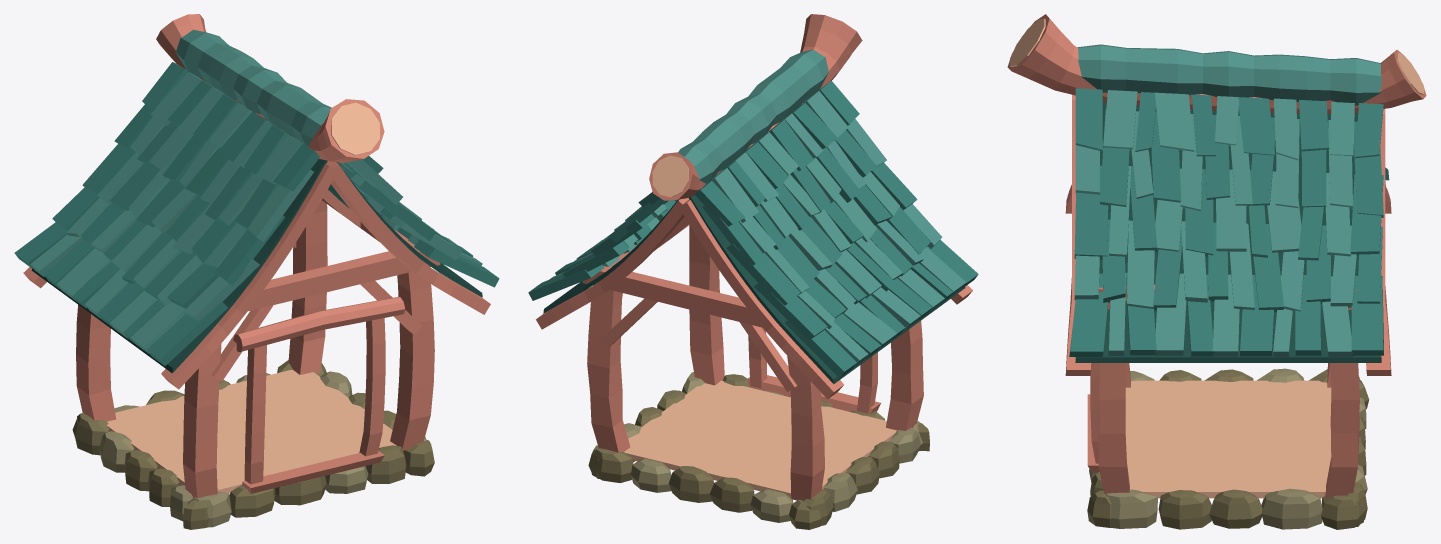
Rendered from feed-store-roof.glb.
3 renders of one model, left to right at view 1: azimuth 30°, elevation 25°; view 2: azimuth 150°, elevation 25°; view 3: azimuth 270°, elevation 25°, orthographic. The views are drawn at different scales.
Visible parts, largest first — view 1: frame, roof_left, roof_left_light, floor, footing, ridge_roll, footing_light, roof_edges, lintel, roof_right, ridge_log, roof_right_light (+1 smaller); view 2: frame, roof_left, roof_left_light, floor, footing, ridge_roll, footing_light, roof_right, ridge_log, roof_edges, ridge_log_ends, roof_right_light; view 3: roof_right, roof_right_light, floor, ridge_roll, frame, footing, roof_edges, ridge_log, footing_light, ridge_log_ends.
Boxes of the visible parts, bbox=[...] form: frame: bbox=[23, 161, 490, 498]; roof_left: bbox=[14, 62, 319, 365]; roof_left_light: bbox=[30, 72, 313, 353]; floor: bbox=[107, 370, 396, 493]; footing: bbox=[72, 360, 434, 529]; ridge_roll: bbox=[175, 29, 331, 146]; footing_light: bbox=[99, 371, 426, 527]; roof_edges: bbox=[31, 159, 482, 373]; lintel: bbox=[233, 297, 405, 351]; roof_right: bbox=[338, 156, 499, 287]; ridge_log: bbox=[156, 14, 384, 163]; roof_right_light: bbox=[341, 159, 482, 265]; frame: bbox=[536, 198, 972, 500]; roof_left: bbox=[694, 80, 978, 377]; roof_left_light: bbox=[711, 91, 966, 366]; floor: bbox=[624, 380, 897, 498]; footing: bbox=[588, 374, 929, 529]; ridge_roll: bbox=[678, 49, 828, 183]; footing_light: bbox=[624, 372, 922, 522]; roof_right: bbox=[528, 192, 675, 300]; ridge_log: bbox=[649, 14, 862, 200]; roof_edges: bbox=[543, 195, 965, 383]; ridge_log_ends: bbox=[652, 155, 688, 197]; roof_right_light: bbox=[549, 199, 677, 279]; roof_right: bbox=[1069, 88, 1383, 356]; roof_right_light: bbox=[1074, 90, 1356, 356]; floor: bbox=[1125, 380, 1331, 498]; ridge_roll: bbox=[1077, 44, 1381, 105]; frame: bbox=[1065, 94, 1391, 497]; footing: bbox=[1087, 369, 1369, 529]; roof_edges: bbox=[1075, 102, 1381, 362]; ridge_log: bbox=[1007, 14, 1426, 113]; footing_light: bbox=[1089, 368, 1367, 529]; ridge_log_ends: bbox=[1010, 18, 1424, 94].
Size of the model in its own units: 3.64 by 4.23 by 3.56.
